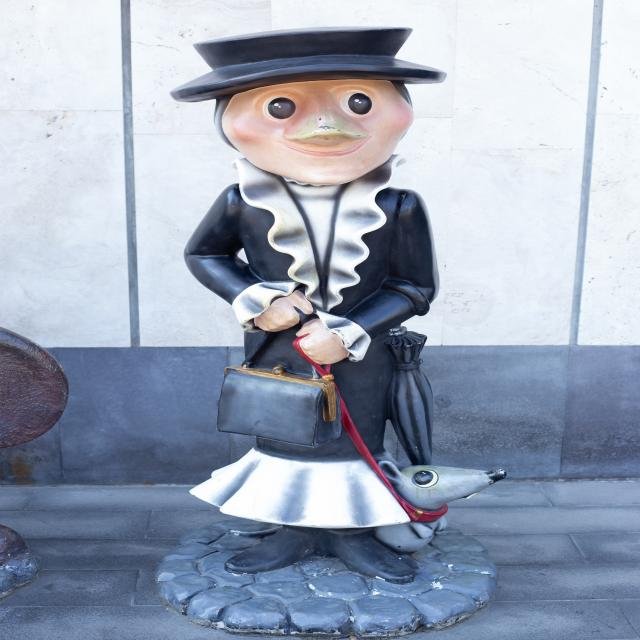cheburashka: (0, 318, 68, 518), (1, 522, 38, 585)
shapoklyak: (153, 26, 516, 639)
